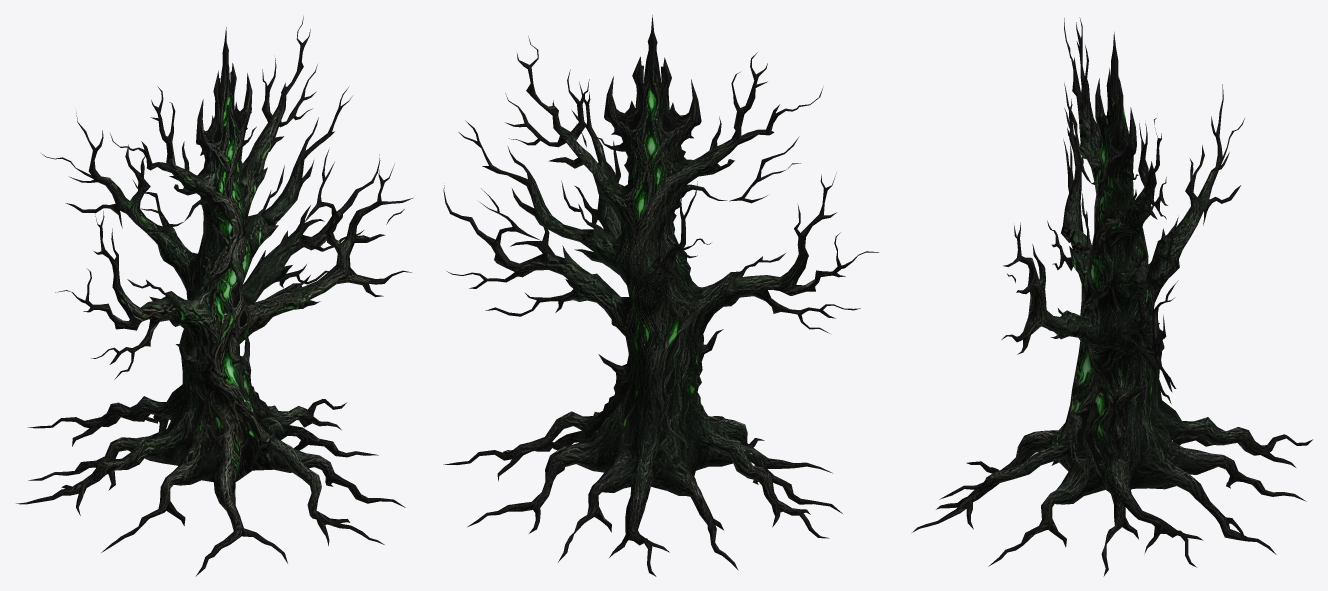
The picture shows the model from 3 angles, left to right: view 1: azimuth 30°, elevation 25°; view 2: azimuth 150°, elevation 25°; view 3: azimuth 270°, elevation 25°; orthographic projection. The views are drawn at different scales.
Visible parts, largest first — view 1: tripo_node_fc13fb82-d073-4659-8970-da83d9ee9328; view 2: tripo_node_fc13fb82-d073-4659-8970-da83d9ee9328; view 3: tripo_node_fc13fb82-d073-4659-8970-da83d9ee9328.
Boxes of the visible parts, bbox=[...] form: tripo_node_fc13fb82-d073-4659-8970-da83d9ee9328: bbox=[16, 16, 413, 576]; tripo_node_fc13fb82-d073-4659-8970-da83d9ee9328: bbox=[443, 15, 878, 576]; tripo_node_fc13fb82-d073-4659-8970-da83d9ee9328: bbox=[912, 17, 1312, 576].
Size of the model in its own units: 0.8301 by 0.998 by 0.752.
1 material, 1 textured.
